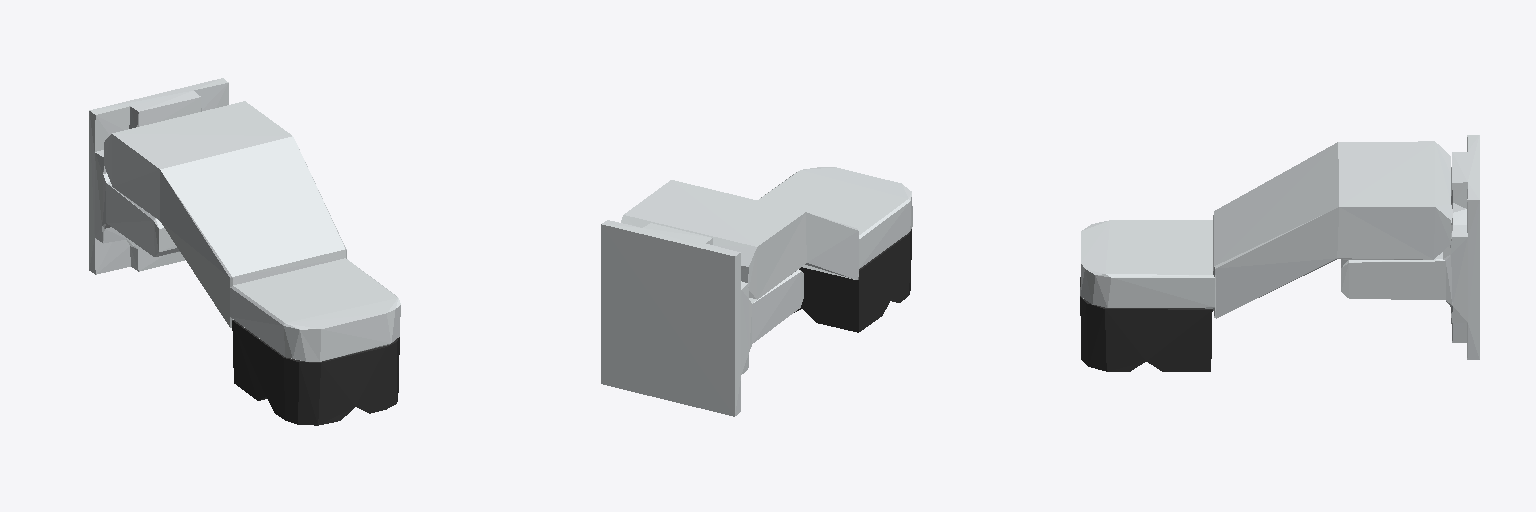
Rendered from finger.obj.
3 renders of one model, left to right at view 1: azimuth 30°, elevation 25°; view 2: azimuth 150°, elevation 25°; view 3: azimuth 270°, elevation 25°, orthographic.
Parts seen in each view (by area): view 1: Part__Feature001_006-mesh, Part__Feature_007-mesh; view 2: Part__Feature001_006-mesh, Part__Feature_007-mesh; view 3: Part__Feature001_006-mesh, Part__Feature_007-mesh.
Boxes of the visible parts, x1=… form: Part__Feature001_006-mesh: x1=89, y1=78, x2=400, y2=361; Part__Feature_007-mesh: x1=232, y1=320, x2=399, y2=425; Part__Feature001_006-mesh: x1=601, y1=167, x2=912, y2=416; Part__Feature_007-mesh: x1=794, y1=229, x2=911, y2=332; Part__Feature001_006-mesh: x1=1080, y1=135, x2=1479, y2=359; Part__Feature_007-mesh: x1=1080, y1=277, x2=1212, y2=371.
Size of the model in its own units: 0.021 by 0.0264 by 0.0538.